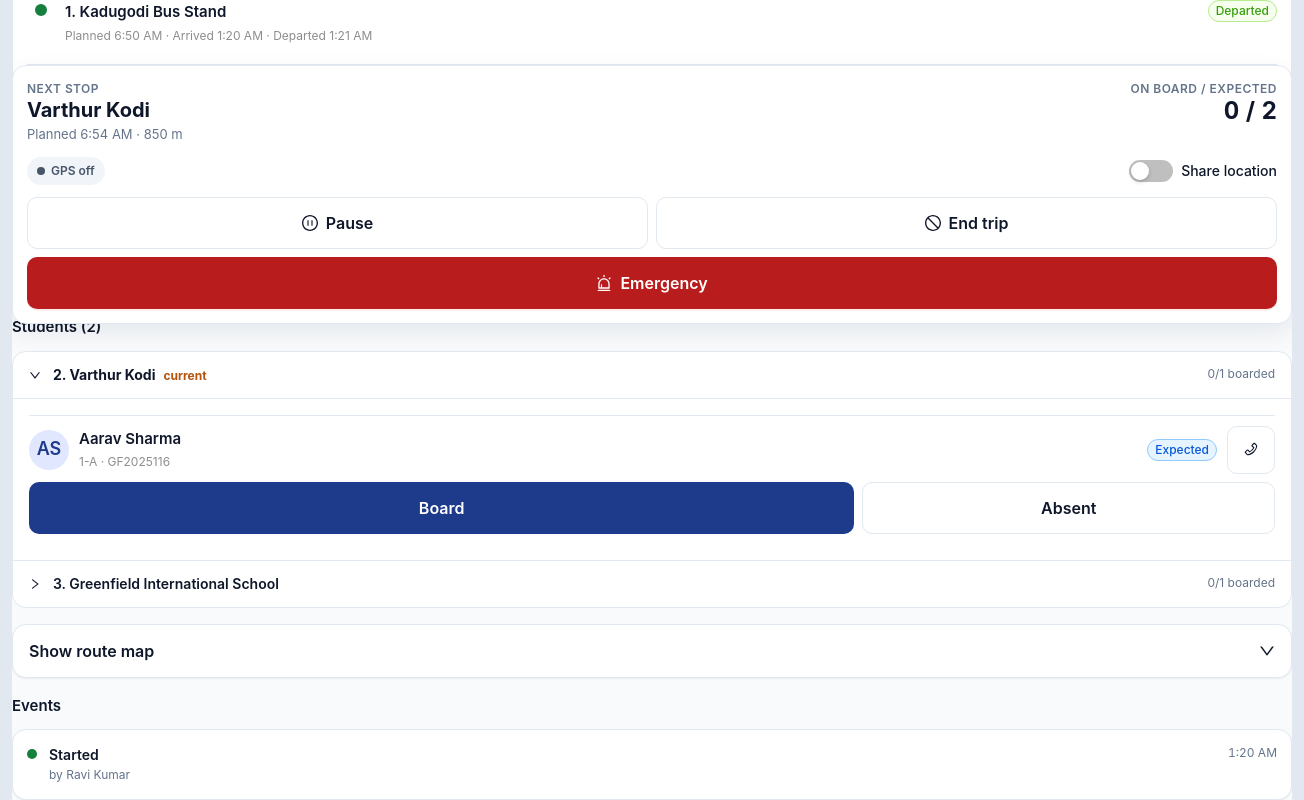
DriverTripPage › boards a student and updates the status badge from the API response
(page scrolled)
Click the button with aria-label "Board Aarav Sharma" at (442, 508), box [29,482,854,534]
(page scrolled)
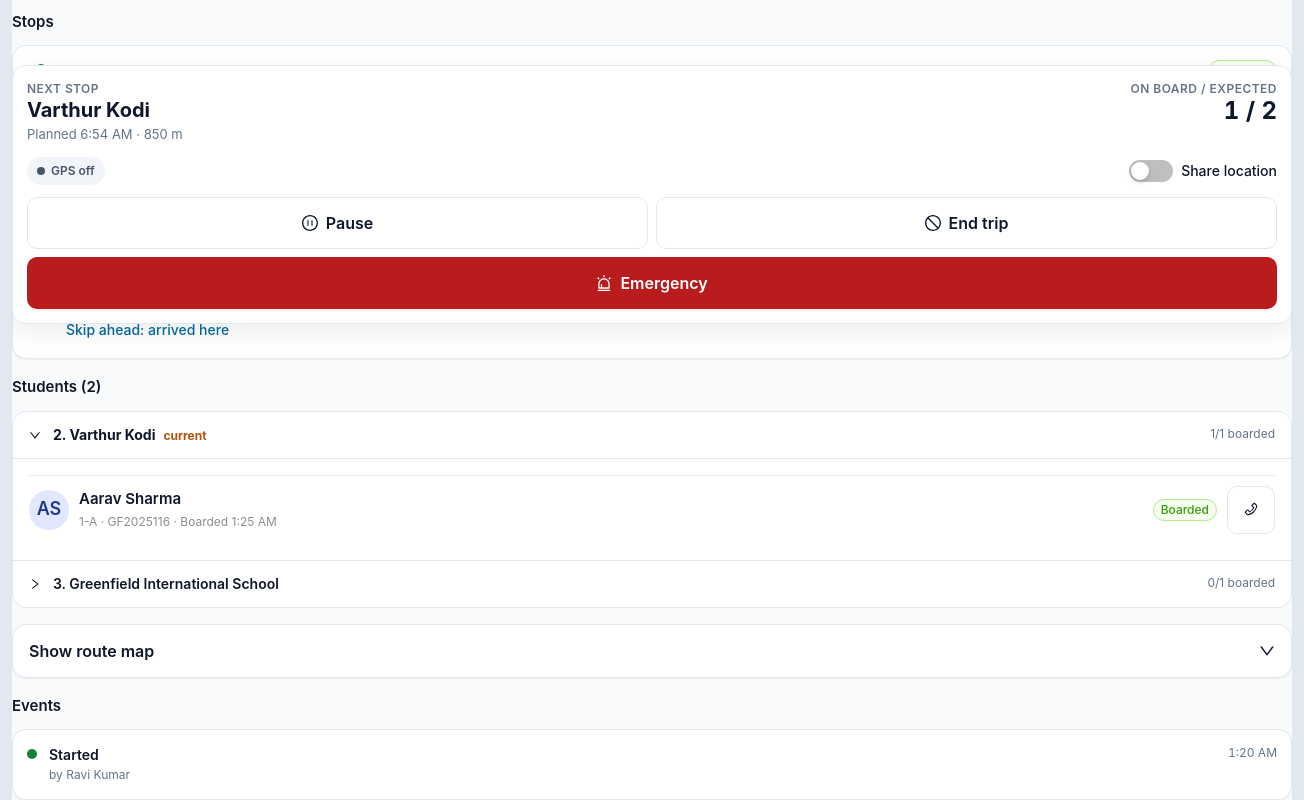
Expected: the text "Boarded" is shown, [1153,499,1217,521]
